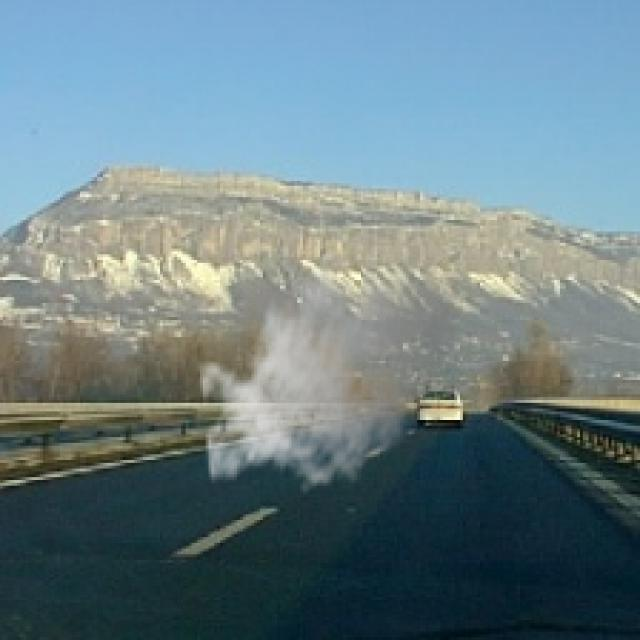Smoke: (197, 228, 463, 498)
